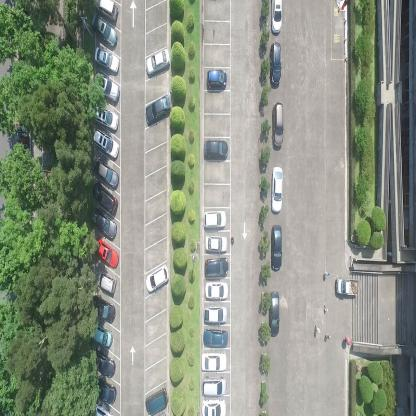car: (90, 179, 118, 215), (89, 14, 118, 48), (144, 92, 172, 125), (90, 206, 117, 240), (92, 127, 119, 160), (145, 261, 170, 295), (91, 292, 116, 325), (93, 45, 120, 74), (92, 158, 119, 186), (144, 386, 170, 415), (94, 74, 120, 103), (145, 47, 170, 77), (92, 347, 116, 378), (94, 237, 118, 267), (92, 105, 118, 132), (270, 101, 284, 149), (90, 320, 113, 349), (96, 375, 118, 405), (92, 0, 119, 23), (96, 266, 116, 296), (270, 224, 282, 272), (335, 275, 359, 298), (204, 256, 229, 278), (203, 139, 229, 160), (269, 290, 280, 339), (203, 327, 228, 348), (201, 352, 227, 372), (201, 376, 227, 396), (272, 166, 282, 216), (270, 42, 281, 86), (206, 68, 228, 90), (204, 305, 228, 325), (203, 210, 226, 230), (204, 233, 228, 252), (204, 282, 228, 299), (202, 400, 227, 416), (271, 0, 282, 35)
